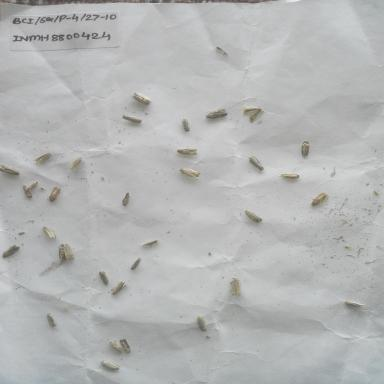pbw: (240, 105, 265, 124), (226, 275, 244, 299), (1, 243, 24, 261), (246, 155, 266, 174), (178, 114, 194, 137), (129, 91, 153, 106), (309, 191, 330, 208), (109, 280, 130, 297), (243, 208, 264, 225), (99, 358, 123, 372), (0, 162, 21, 178), (204, 108, 229, 121), (55, 242, 71, 262), (41, 222, 57, 242), (32, 151, 52, 166), (179, 167, 202, 180), (47, 185, 63, 203), (18, 184, 34, 202), (117, 336, 132, 354), (22, 180, 40, 195), (275, 172, 301, 182), (63, 242, 76, 262), (97, 269, 112, 286), (45, 312, 60, 329), (120, 113, 143, 124), (139, 238, 162, 249), (106, 338, 124, 352), (176, 146, 198, 157), (129, 255, 144, 271), (68, 156, 84, 171), (195, 315, 208, 333), (343, 299, 366, 309), (300, 140, 312, 158), (120, 191, 132, 207)
